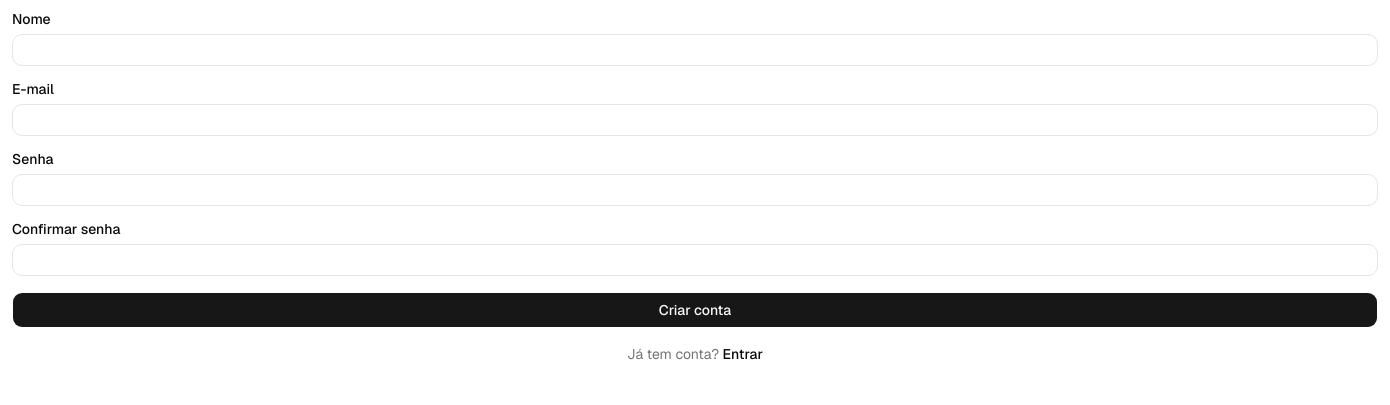
Test: SignupForm › puts a server field error under the field
Type "Maria Silva" into the field labelled "Nome" at {"x": 695, "y": 50}, box [12,34,1378,66]
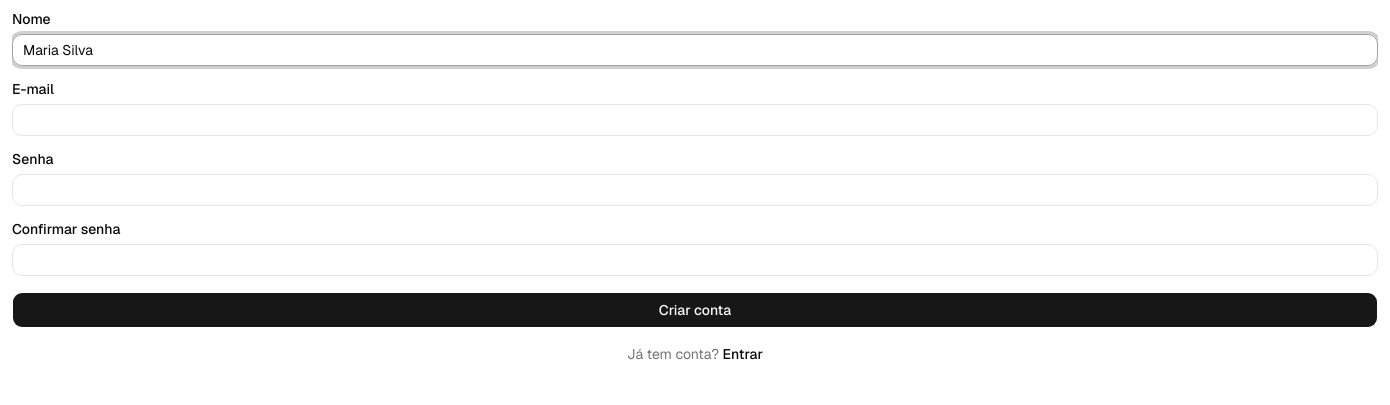
Type "maria@example.com" into the field labelled "E-mail" at {"x": 695, "y": 120}, box [12,104,1378,136]
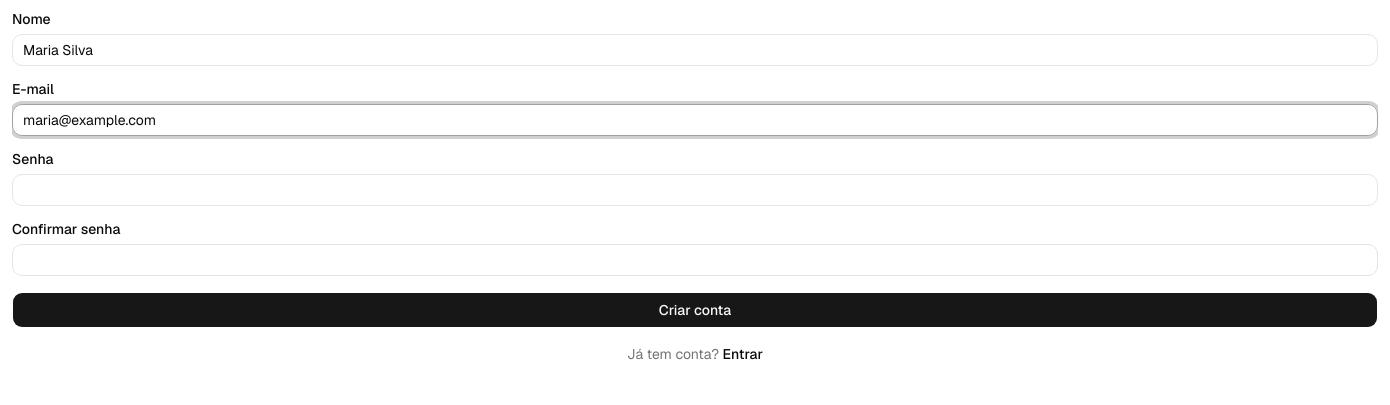
Type "senha-segura-1" into the password field labelled "Senha" at {"x": 695, "y": 190}, box [12,174,1378,206]
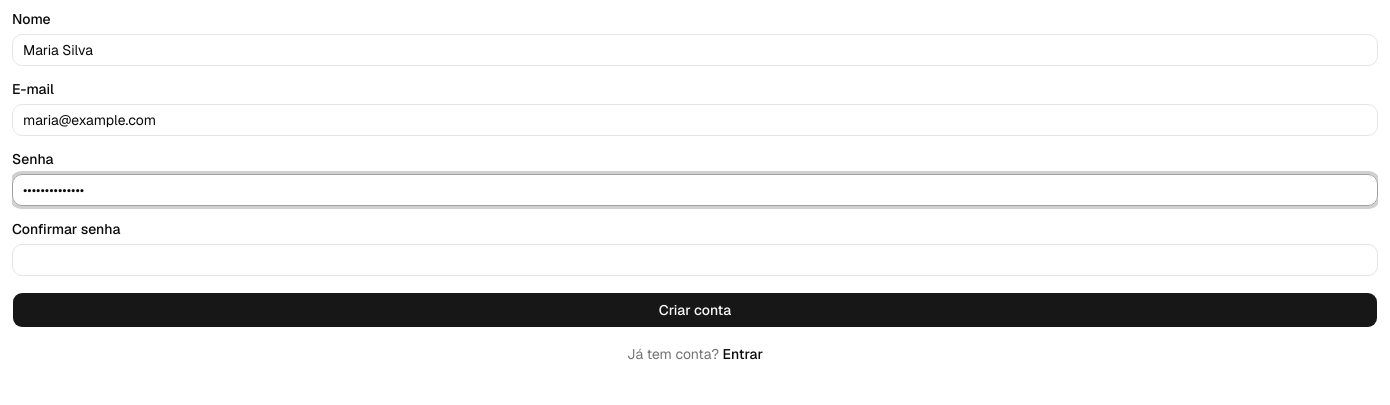
Type "senha-segura-1" into the password field labelled "Confirmar senha" at {"x": 695, "y": 260}, box [12,244,1378,276]
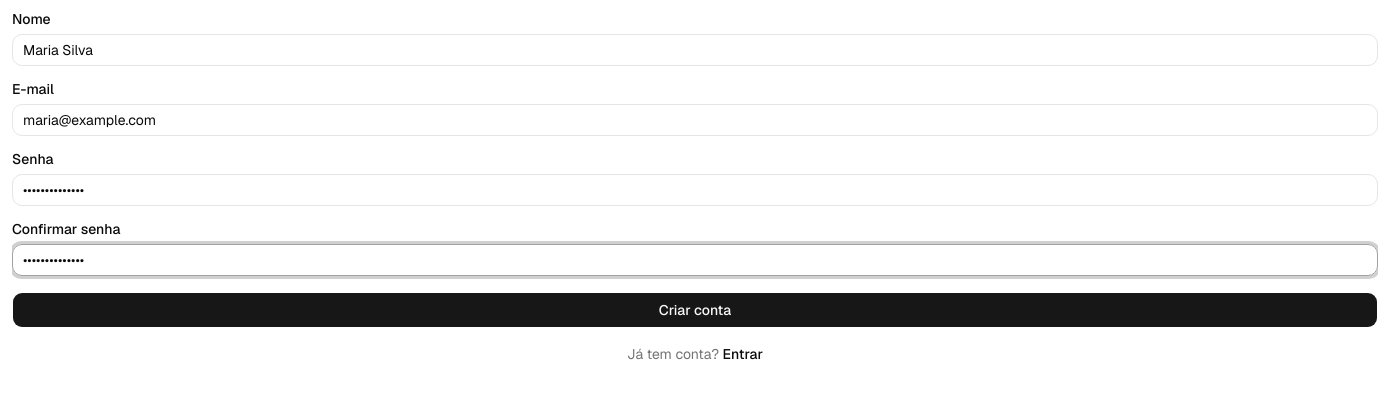
Click the button "Criar conta" at {"x": 695, "y": 310}, box [12,292,1378,328]
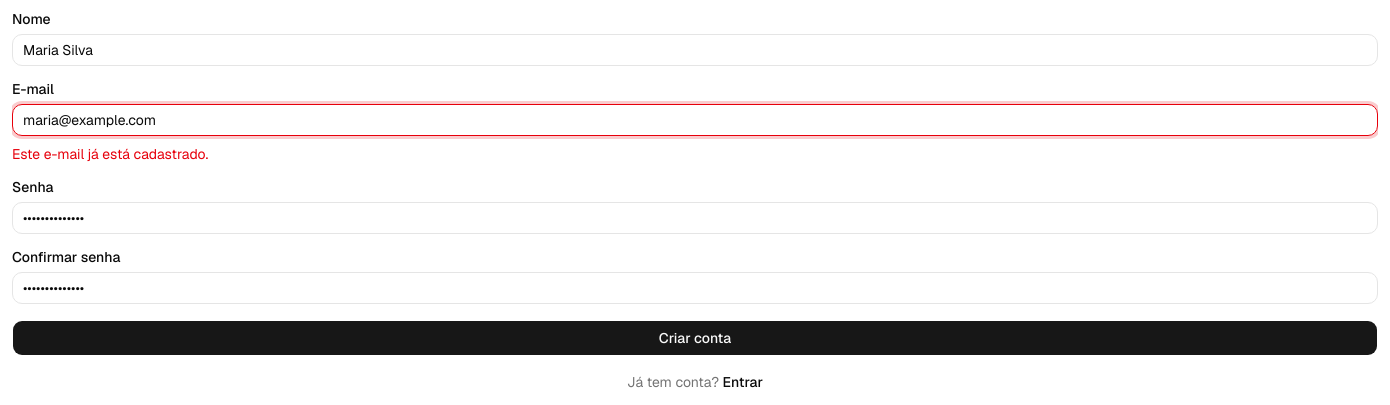
Result: the text "Este e-mail já está cadastrado." is shown at [12,145,208,163]
